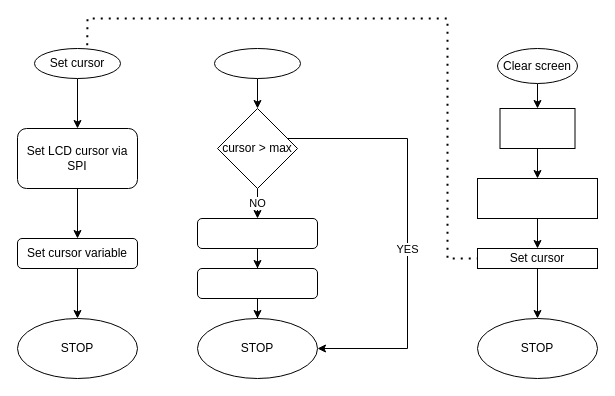
Image size: 615x396. Some labels were removed from this diagram. Here are the shapes that lost their labels. From the top down, the centre of each, then its label:
point 257,63: Draw string
point 537,128: Send zero's to all pixels over SPI
point 537,198: Set cursor variable to 0
point 257,233: Send string to display over SPI
point 257,283: update cursor variable
